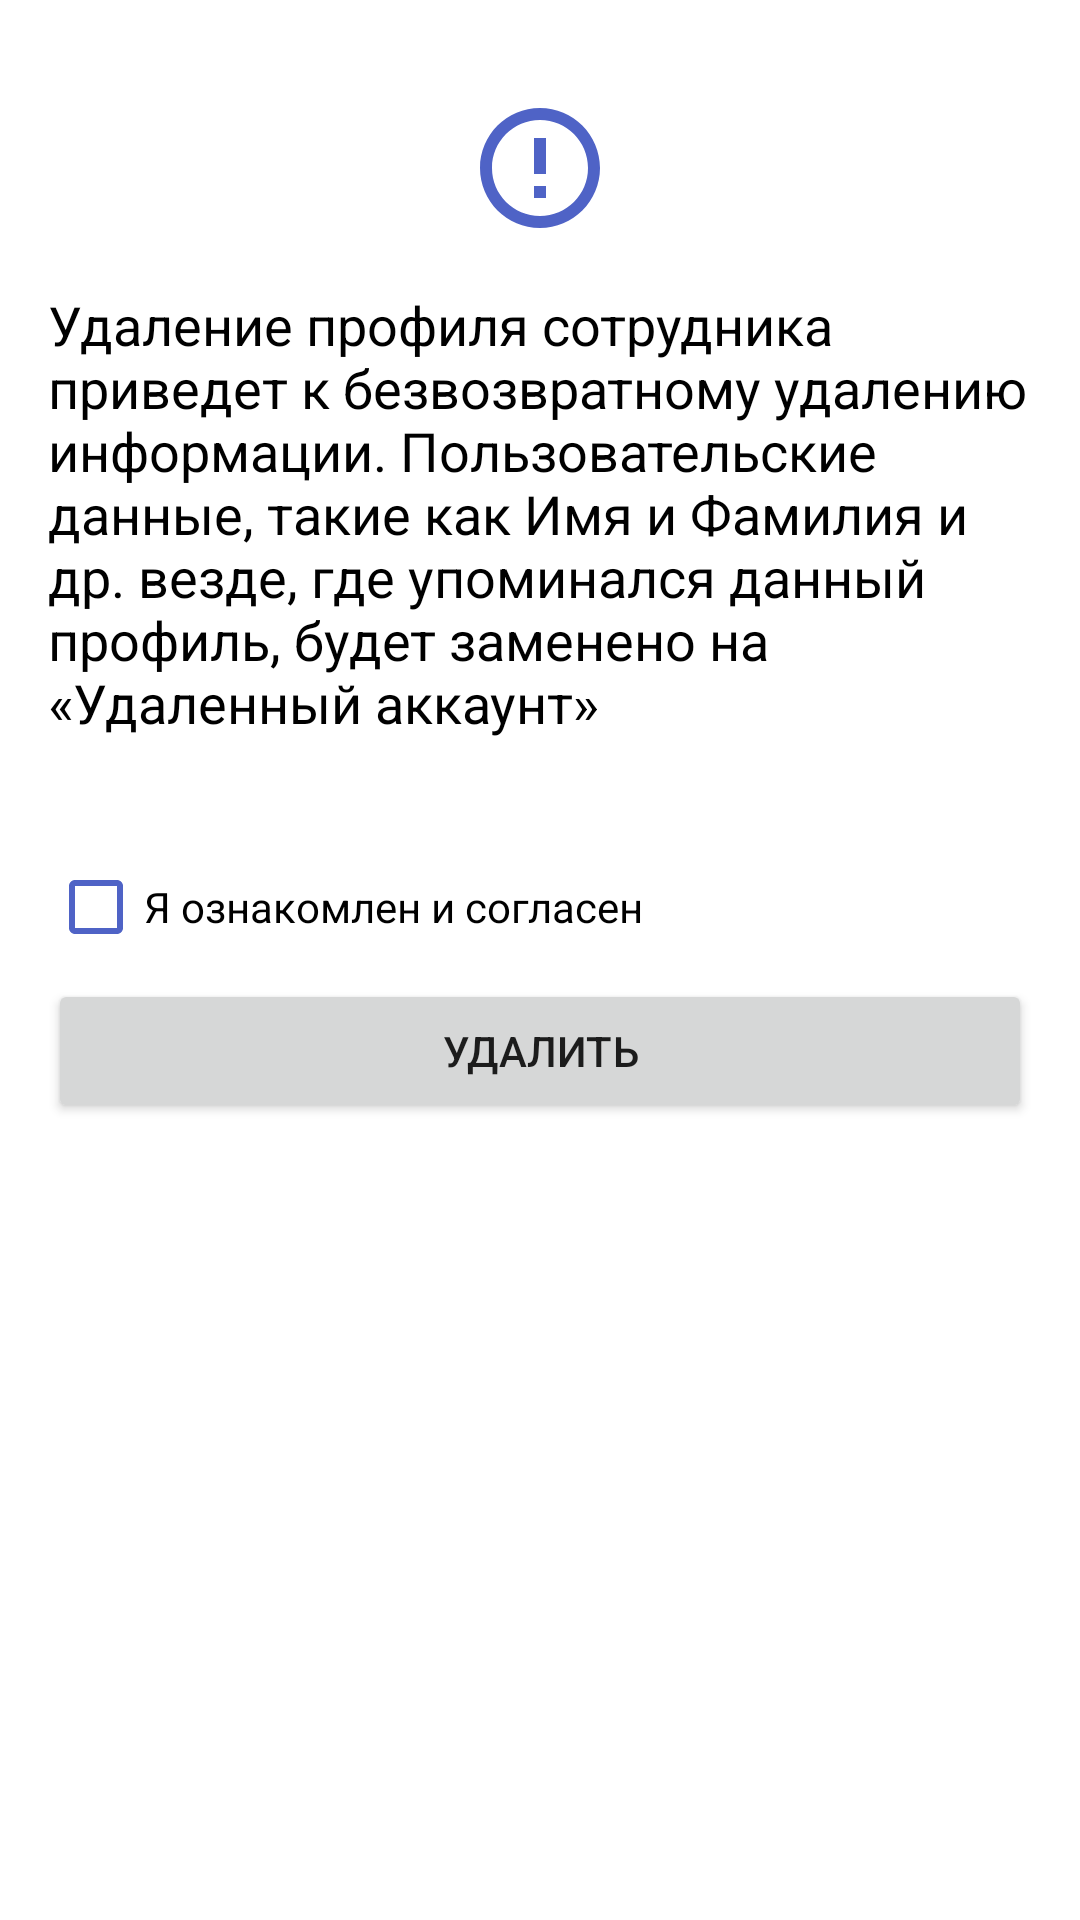

Point at icon controls on the screen. Image size 1080×1920, points as (x=x, y=y).
warning: (x=540, y=168)
